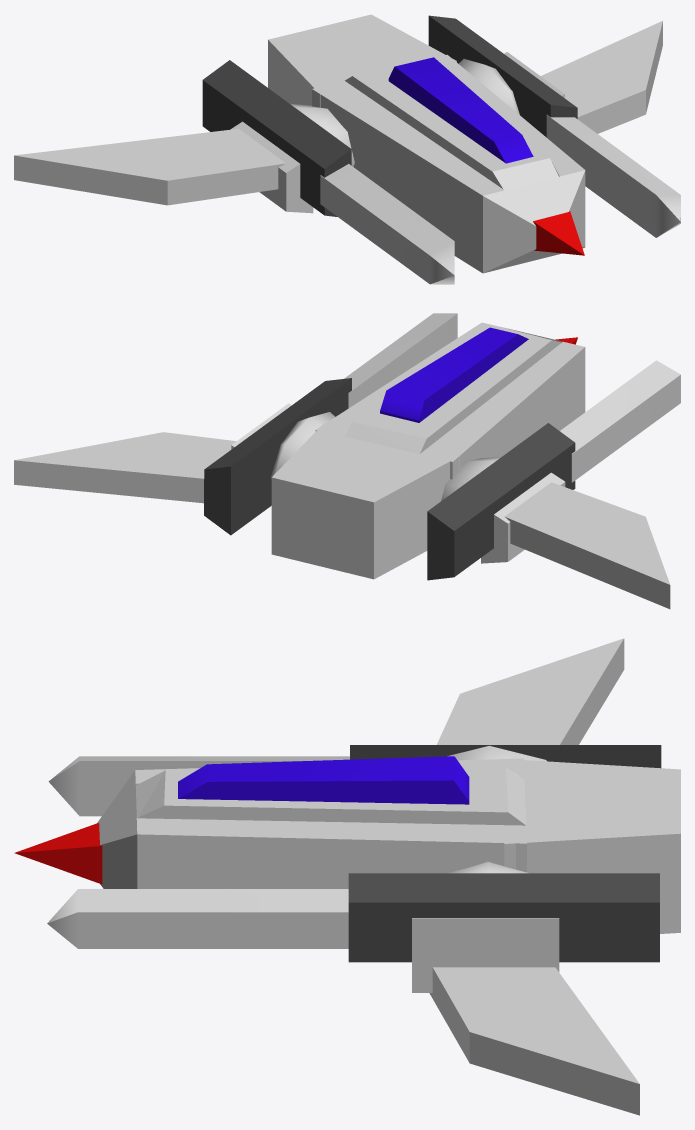
The model's file is PlayerModel.fbx.
3 renders of one model, top to bottom at view 1: azimuth 30°, elevation 25°; view 2: azimuth 150°, elevation 25°; view 3: azimuth 270°, elevation 25°, orthographic. The views are drawn at different scales.
Visible parts, largest first — view 1: pCube2, pCube10, pCube1, pCube5, pCube8, pCube12, pCube14, pCube7, pCube13, pCube9, pCube6, pCube11 (+1 smaller); view 2: pCube1, pCube2, pCube10, pCube12, pCube5, pCube13, pCube8, pCube7, pCube14, pCube9, pCube11, pCube3; view 3: pCube2, pCube13, pCube1, pCube12, pCube14, pCube10, pCube7, pCube15, pCube8, pCube5, pCube6, pCube3.
Part boxes in pixels (<box>): pCube2: <box>312,54,585,273</box>; pCube10: <box>14,128,285,205</box>; pCube1: <box>268,14,456,107</box>; pCube5: <box>202,60,351,216</box>; pCube8: <box>320,164,454,284</box>; pCube12: <box>541,21,662,133</box>; pCube14: <box>546,115,680,237</box>; pCube7: <box>388,57,533,163</box>; pCube13: <box>428,15,577,137</box>; pCube9: <box>230,121,313,213</box>; pCube6: <box>533,211,584,255</box>; pCube11: <box>458,59,519,114</box>; pCube1: <box>271,423,459,579</box>; pCube2: <box>315,322,585,479</box>; pCube10: <box>504,482,670,609</box>; pCube12: <box>14,432,236,503</box>; pCube5: <box>427,423,575,580</box>; pCube13: <box>204,378,351,535</box>; pCube8: <box>560,360,680,482</box>; pCube7: <box>380,327,528,422</box>; pCube14: <box>344,313,457,408</box>; pCube9: <box>481,472,565,563</box>; pCube11: <box>271,412,334,479</box>; pCube3: <box>441,456,501,500</box>; pCube2: <box>97,758,526,888</box>; pCube13: <box>348,873,659,962</box>; pCube1: <box>503,759,680,933</box>; pCube12: <box>429,967,639,1115</box>; pCube14: <box>47,889,348,948</box>; pCube10: <box>437,638,624,744</box>; pCube7: <box>178,756,469,804</box>; pCube15: <box>412,918,559,992</box>; pCube8: <box>48,756,349,816</box>; pCube5: <box>350,745,661,768</box>; pCube6: <box>14,823,102,884</box>; pCube3: <box>447,745,546,761</box>.
Bounding box in the file's own units: 1.9 × 0.3352 × 1.31.
